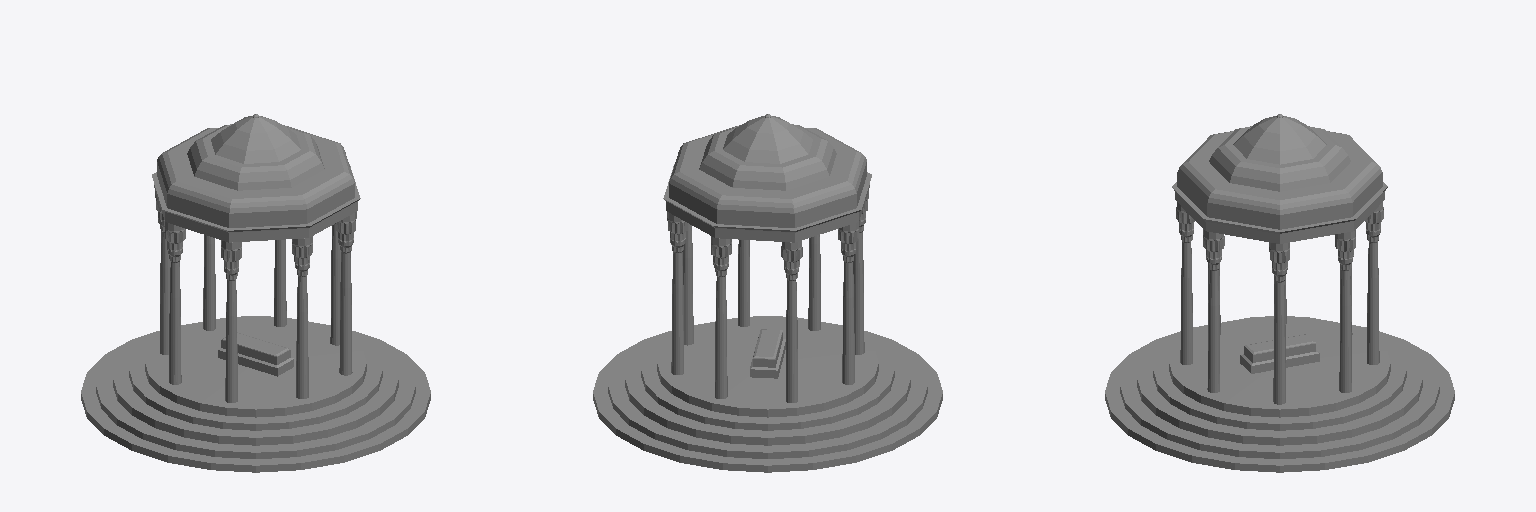
Rendered from HafezTomb_OBj.obj.
The picture shows the model from 3 angles: view 1: azimuth 30°, elevation 25°; view 2: azimuth 150°, elevation 25°; view 3: azimuth 270°, elevation 25°; orthographic projection.
Visible parts, largest first — view 1: HafezTomb; view 2: HafezTomb; view 3: HafezTomb.
Part boxes in pixels (x1,y1,x2,y2): HafezTomb: (81,114,430,472); HafezTomb: (593,114,942,472); HafezTomb: (1105,114,1454,472).
Bounding box in the file's own units: 1103 × 992 × 1103.